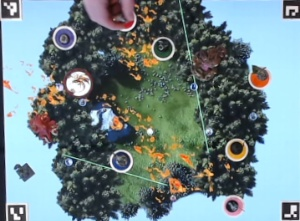blue: (105, 148, 134, 174)
green: (150, 35, 177, 63)
orange: (247, 65, 272, 89)
pink: (219, 192, 245, 218)
red: (113, 8, 138, 33)
violet: (51, 24, 77, 51)
yellow: (222, 135, 249, 162)
